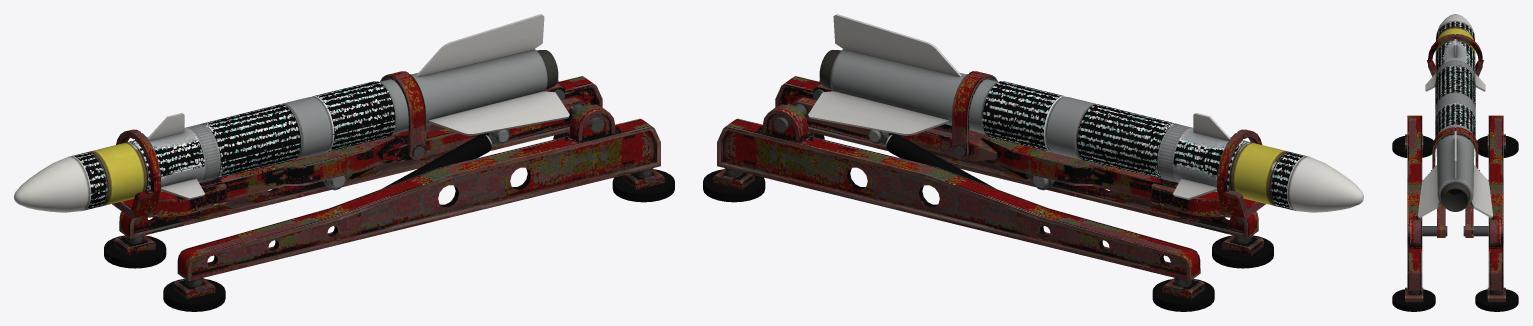
3 renders of one model, left to right at view 1: azimuth 30°, elevation 25°; view 2: azimuth 150°, elevation 25°; view 3: azimuth 270°, elevation 25°, orthographic. The views are drawn at different scales.
Visible parts, largest first — view 1: body0_model0_lod0_mesh1, body0_model0_lod0_mesh0; view 2: body0_model0_lod0_mesh1, body0_model0_lod0_mesh0; view 3: body0_model0_lod0_mesh1, body0_model0_lod0_mesh0.
Boxes of the visible parts, left/top/right/bottom form: body0_model0_lod0_mesh1: left=104, top=71, right=674, bottom=311; body0_model0_lod0_mesh0: left=14, top=14, right=569, bottom=212; body0_model0_lod0_mesh1: left=703, top=71, right=1273, bottom=311; body0_model0_lod0_mesh0: left=808, top=14, right=1363, bottom=212; body0_model0_lod0_mesh1: left=1392, top=34, right=1518, bottom=311; body0_model0_lod0_mesh0: left=1417, top=14, right=1493, bottom=217.
Size of the model in its own units: 539 by 140 by 135.
2 materials, 2 textured.
